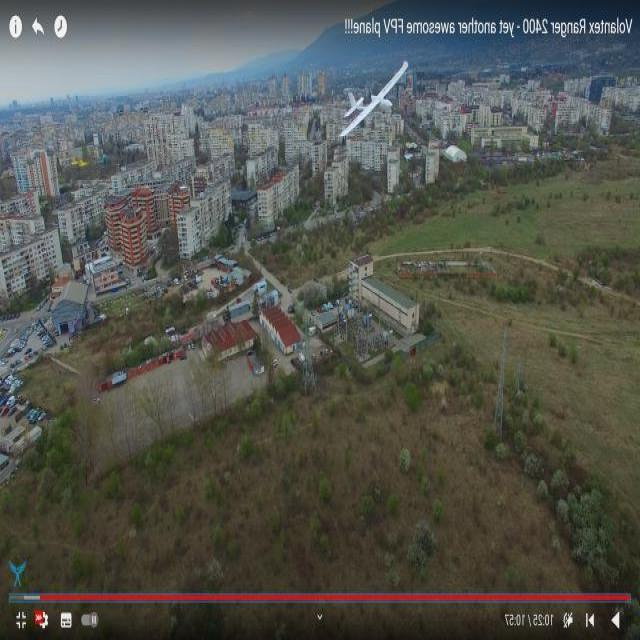UAV: (325, 50, 407, 145)
